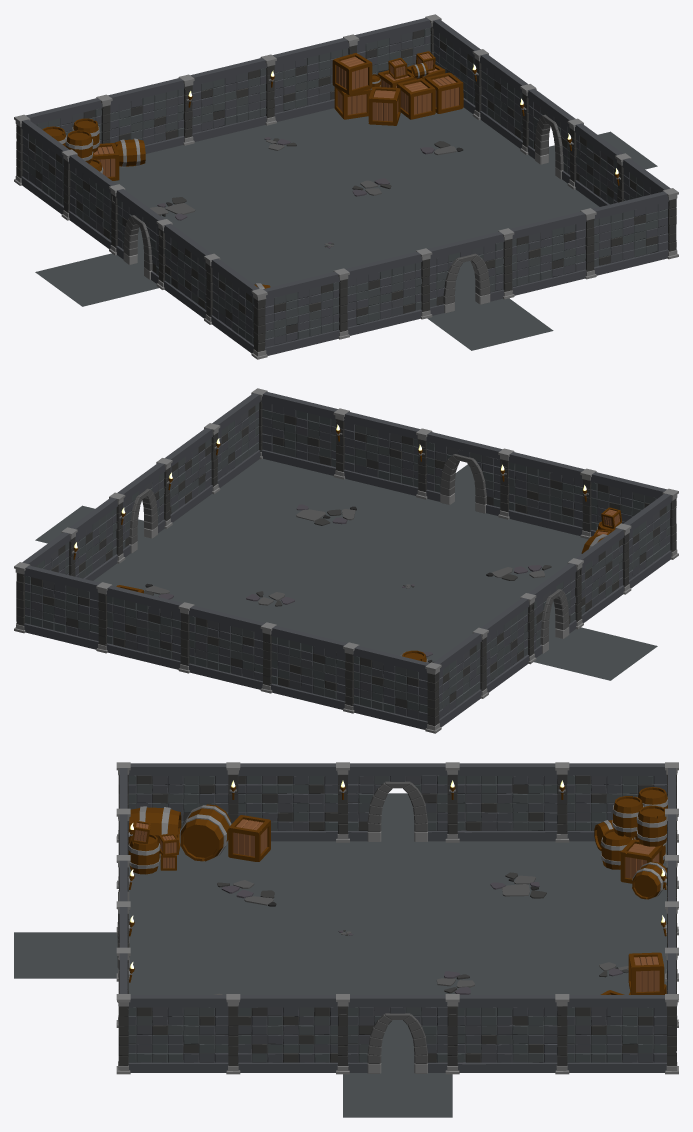
The model's file is uploads_files_2941209_ModularDungeon.gltf.
3 renders of one model, top to bottom at view 1: azimuth 30°, elevation 25°; view 2: azimuth 150°, elevation 25°; view 3: azimuth 270°, elevation 25°, orthographic. The views are drawn at different scales.
Parts seen in each view (by area): view 1: Wall A, Wall A.001, Wall A.004, Wall A.002, Wall A.010, Doorway.001, Wall A.009, Wall A.011, Floor.006, Floor.010, Floor.011, Floor.014 (+38 smaller); view 2: Wall A.011, Wall A.009, Wall A.010, Wall A.008, Wall A.001, Wall A.002, Wall A.012, Doorway.001, Wall A.004, Floor.006, Floor.009, Floor.010 (+29 smaller); view 3: Wall A.014, Wall A.007, Wall A.003, Wall A.016, Doorway.002, Doorway.003, Wall.001, Wall.002, Wall A.013, Floor.009, Floor.006, Floor.011 (+42 smaller).
Part boxes in pixels (x1,y1,x2,y2): Wall A: [251, 271, 339, 359]; Wall A.001: [333, 251, 422, 339]; Wall A.004: [592, 188, 678, 275]; Wall A.002: [510, 208, 596, 295]; Wall A.010: [178, 58, 266, 145]; Doorway.001: [416, 228, 514, 319]; Wall A.009: [260, 38, 349, 125]; Wall A.011: [96, 78, 184, 153]; Floor.006: [200, 212, 328, 266]; Floor.010: [282, 194, 410, 245]; Floor.011: [234, 157, 354, 211]; Floor.014: [365, 172, 493, 226]; Wall A.011: [270, 625, 359, 713]; Wall A.009: [106, 585, 194, 673]; Wall A.010: [188, 605, 276, 693]; Wall A.008: [24, 565, 112, 653]; Wall A.001: [508, 452, 596, 539]; Wall A.002: [333, 408, 420, 495]; Wall A.012: [353, 645, 441, 733]; Doorway.001: [416, 428, 514, 519]; Wall A.004: [251, 388, 337, 475]; Floor.006: [364, 586, 492, 640]; Floor.009: [329, 531, 458, 585]; Floor.010: [287, 566, 410, 620]; Wall A.014: [457, 762, 569, 842]; Wall A.007: [457, 994, 569, 1074]; Wall A.003: [128, 994, 240, 1074]; Wall A.016: [567, 994, 678, 1074]; Doorway.002: [336, 994, 459, 1074]; Doorway.003: [336, 762, 459, 842]; Wall.001: [238, 995, 337, 1072]; Wall.002: [238, 763, 338, 841]; Wall A.013: [128, 762, 240, 842]; Floor.009: [233, 932, 342, 978]; Floor.006: [343, 886, 452, 932]; Floor.011: [452, 932, 562, 978].
Bounding box in the file's own units: 28 × 3.07 × 24.26.
Materials: 7 (6 with a texture image).
